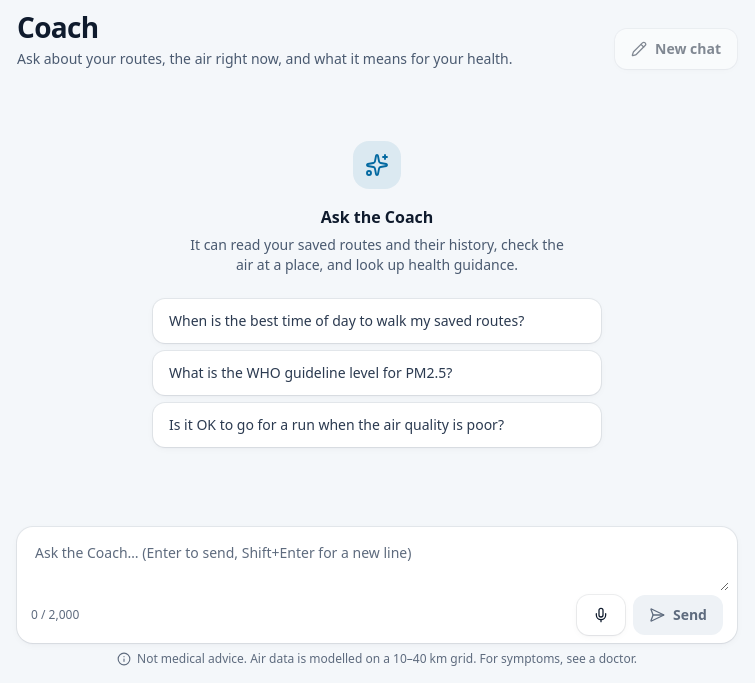
Scenario: Coach voice input › shows interim words greyed, then puts the final text in the box
This screenshot has width=755, height=683.
Later steps or results of the test are not shown.
Click the button named "Start voice input" at (601, 615), box [577,595,625,635]
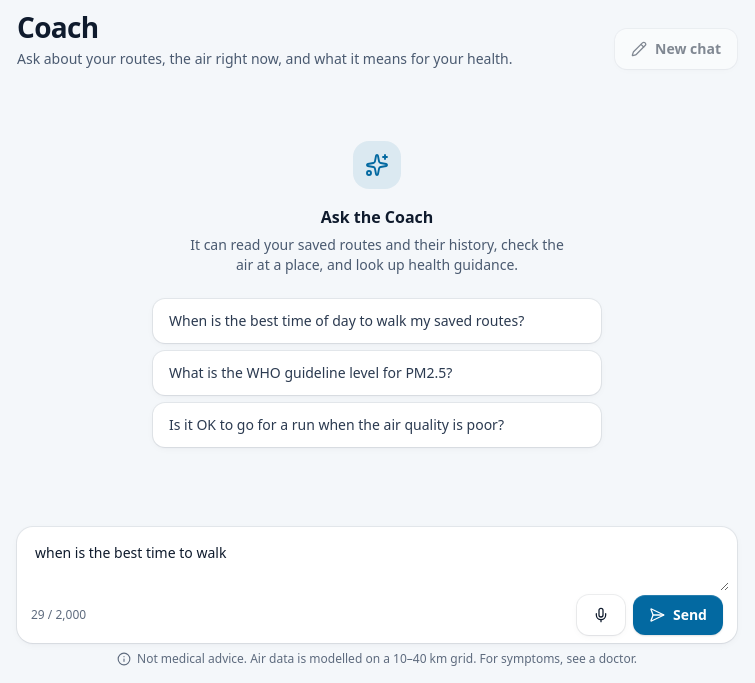
Check: the text box holds "when is the best time to walk", box [25,535,729,591]
